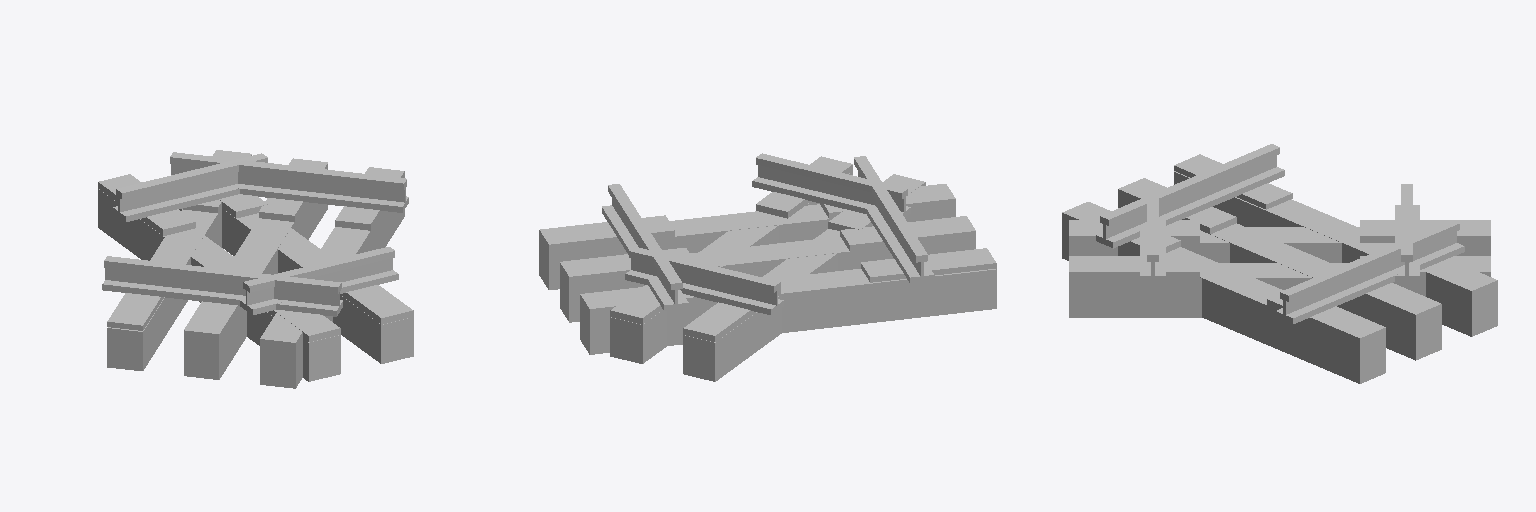
File: cross_d1_xo.obj
The picture shows the model from 3 angles: view 1: azimuth 30°, elevation 25°; view 2: azimuth 150°, elevation 25°; view 3: azimuth 270°, elevation 25°; orthographic projection.
Visible parts, largest first — view 1: cube; view 2: cube; view 3: cube.
Part boxes in pixels (bbox=[...]): cube: bbox=[98, 150, 413, 388]; cube: bbox=[539, 153, 996, 381]; cube: bbox=[1062, 144, 1497, 383].
Size of the model in its own units: 2.59 by 0.474 by 2.59.